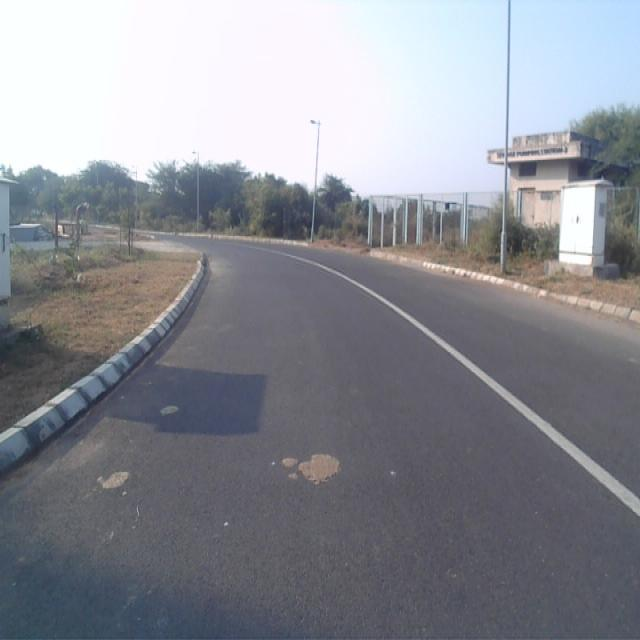lane: (0, 244, 640, 640)
